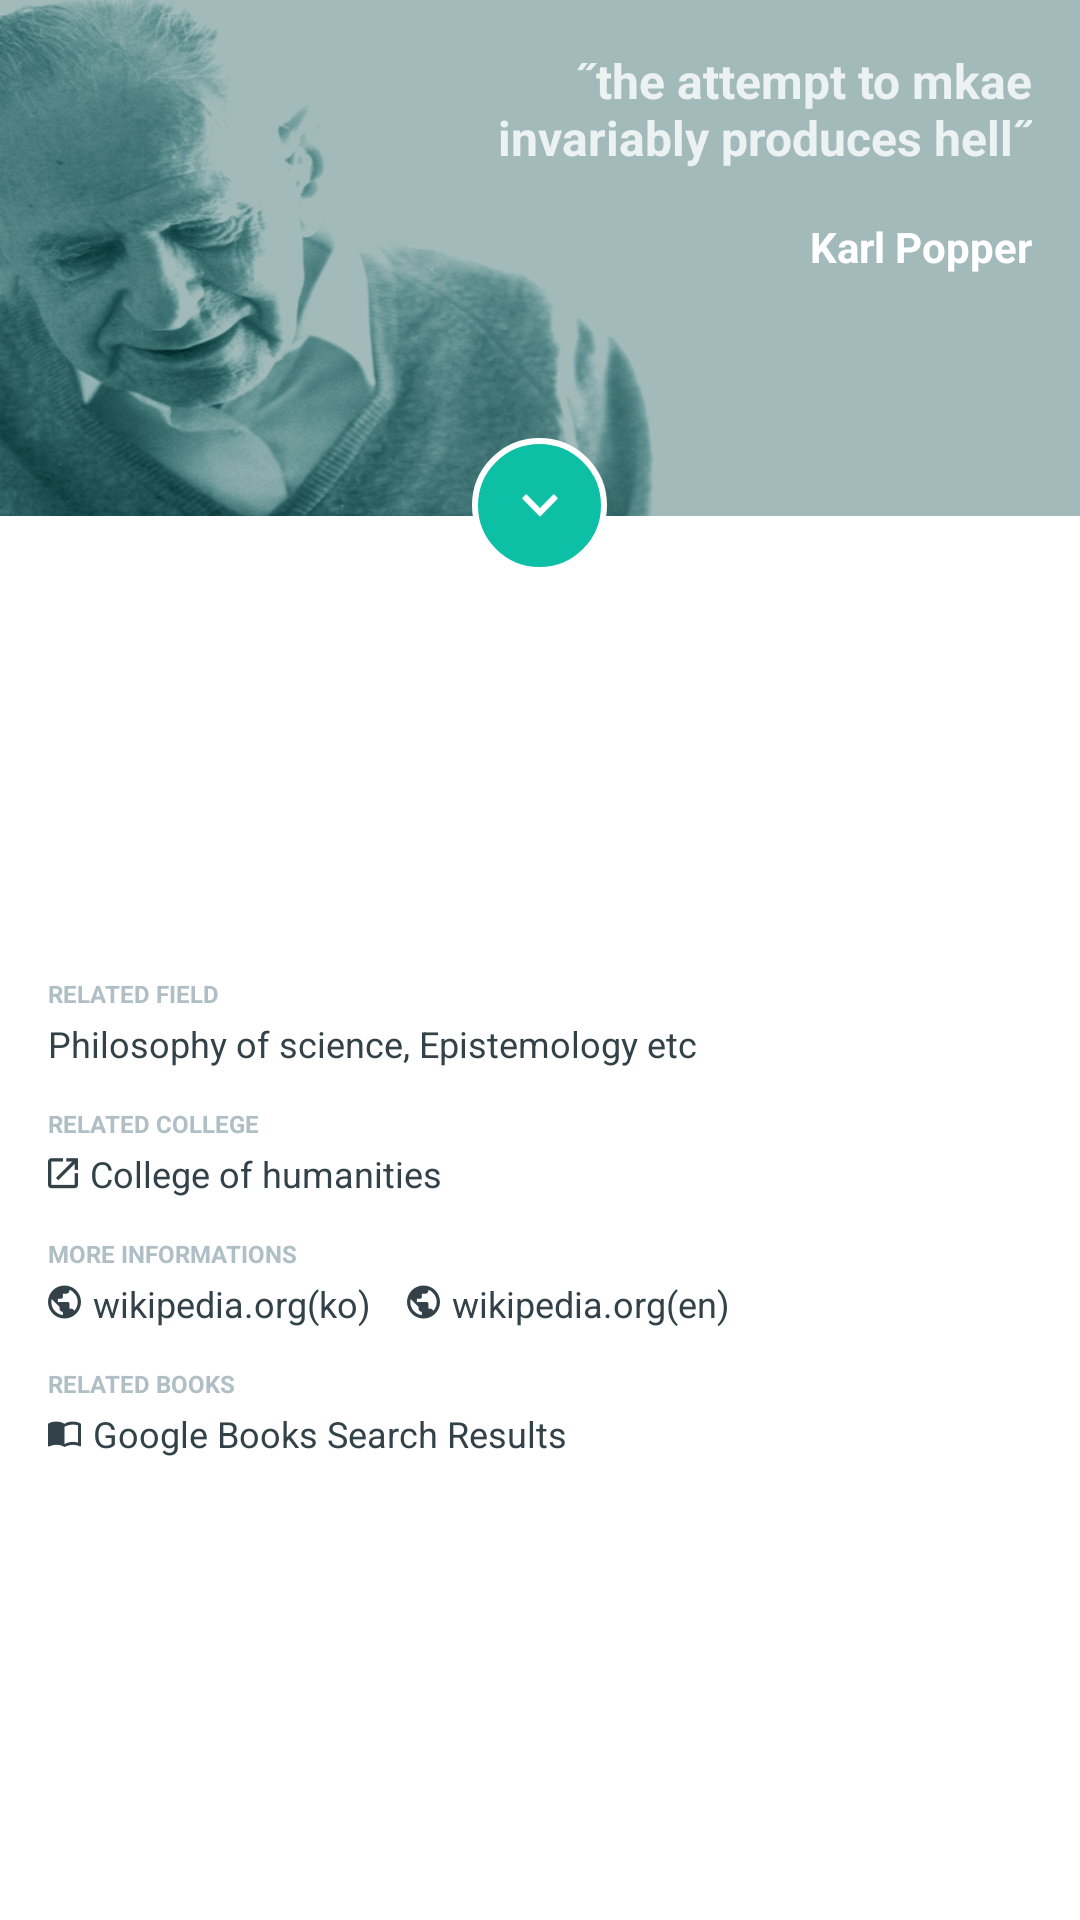

Where to tap for icons on this 1080w x 1920h app screen, as (x,y):
fab arrow: (539,505)
internet: (64,1302), (423,1302)
link: (63,1173)
